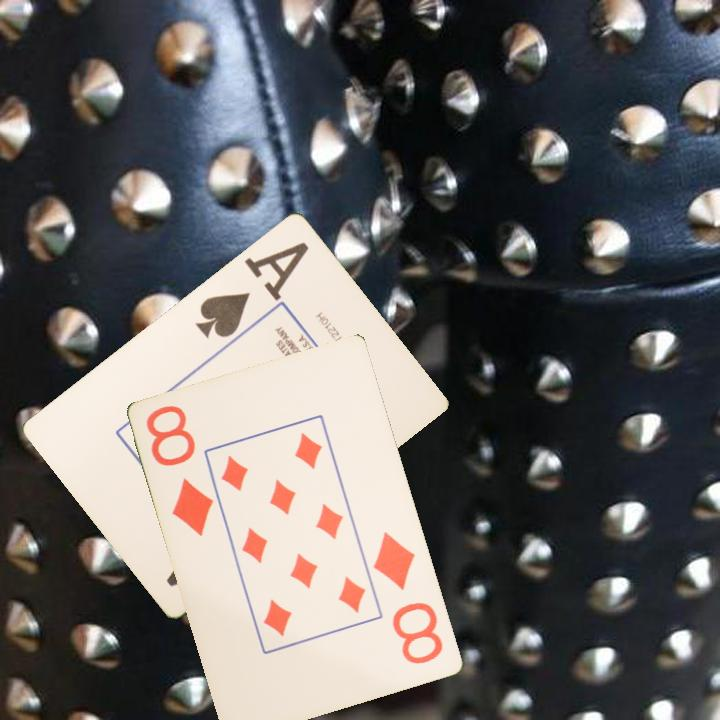8d: (370, 528, 447, 668), (143, 402, 217, 540)
As: (191, 248, 300, 340)
